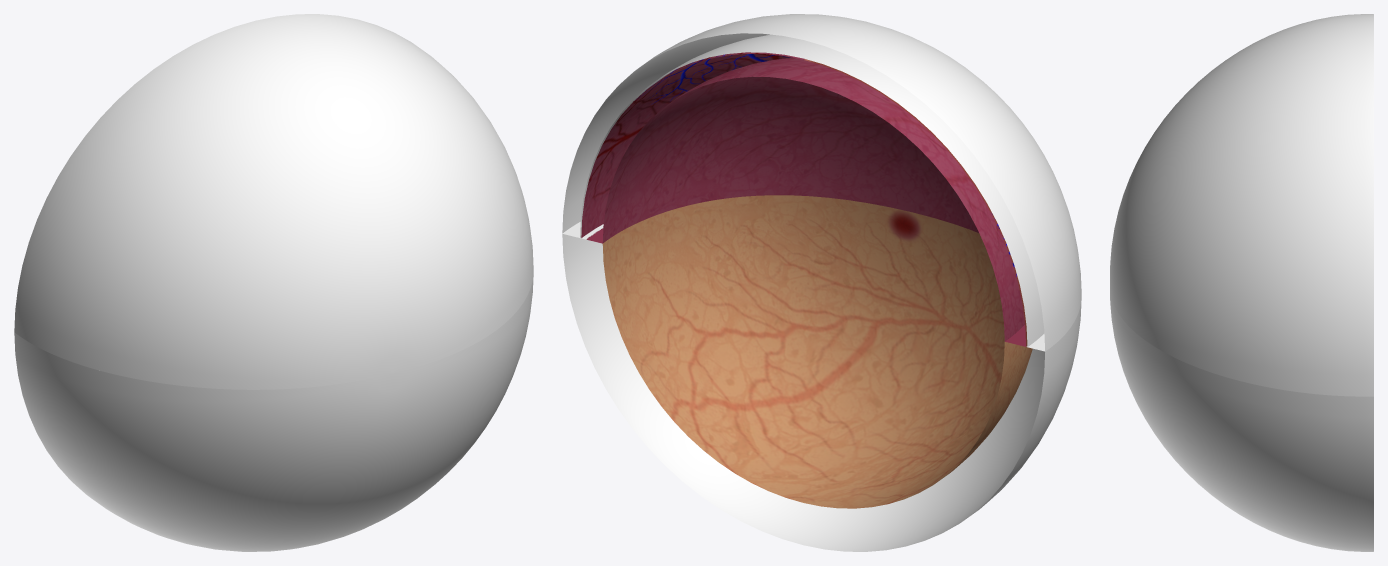
The model's file is posterior_segment.glb.
3 views of the same model, side by side, from view 1: azimuth 30°, elevation 25°; view 2: azimuth 150°, elevation 25°; view 3: azimuth 270°, elevation 25° (orthographic). The views are drawn at different scales.
Parts seen in each view (by area): view 1: 1 ARTERIA interior; view 2: 1 ARTERIA interior; view 3: 1 ARTERIA interior.
Boxes of the visible parts, box(x1,y1,x2,y2) form: 1 ARTERIA interior: box(14, 14, 533, 551); 1 ARTERIA interior: box(562, 14, 1081, 551); 1 ARTERIA interior: box(1110, 14, 1373, 551).
Size of the model in its own units: 23.03 by 23.03 by 11.3.
8 materials, 7 textured.
